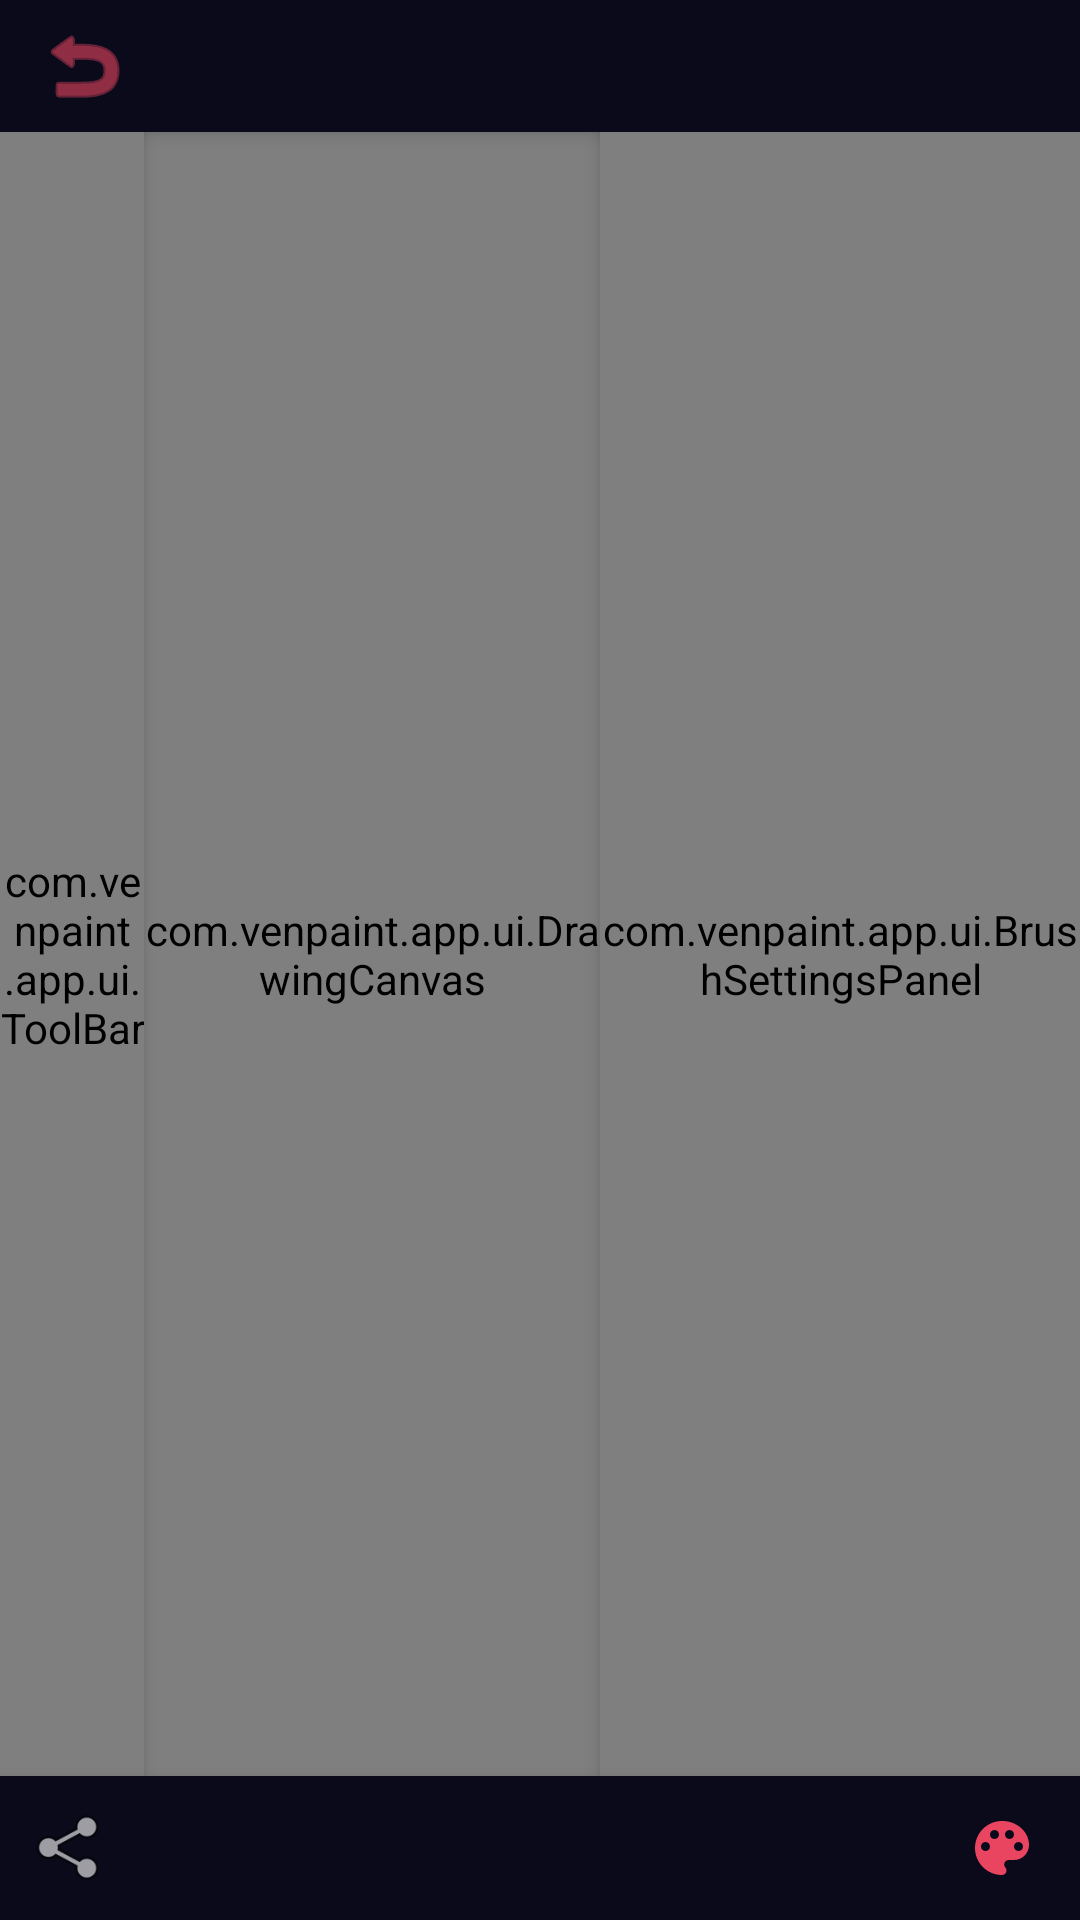

Icon bounding boxes for this 1080 × 1920 phone screenshot, format (x1, y1, x2, y2):
Color picker: (975, 1821, 1029, 1875)
